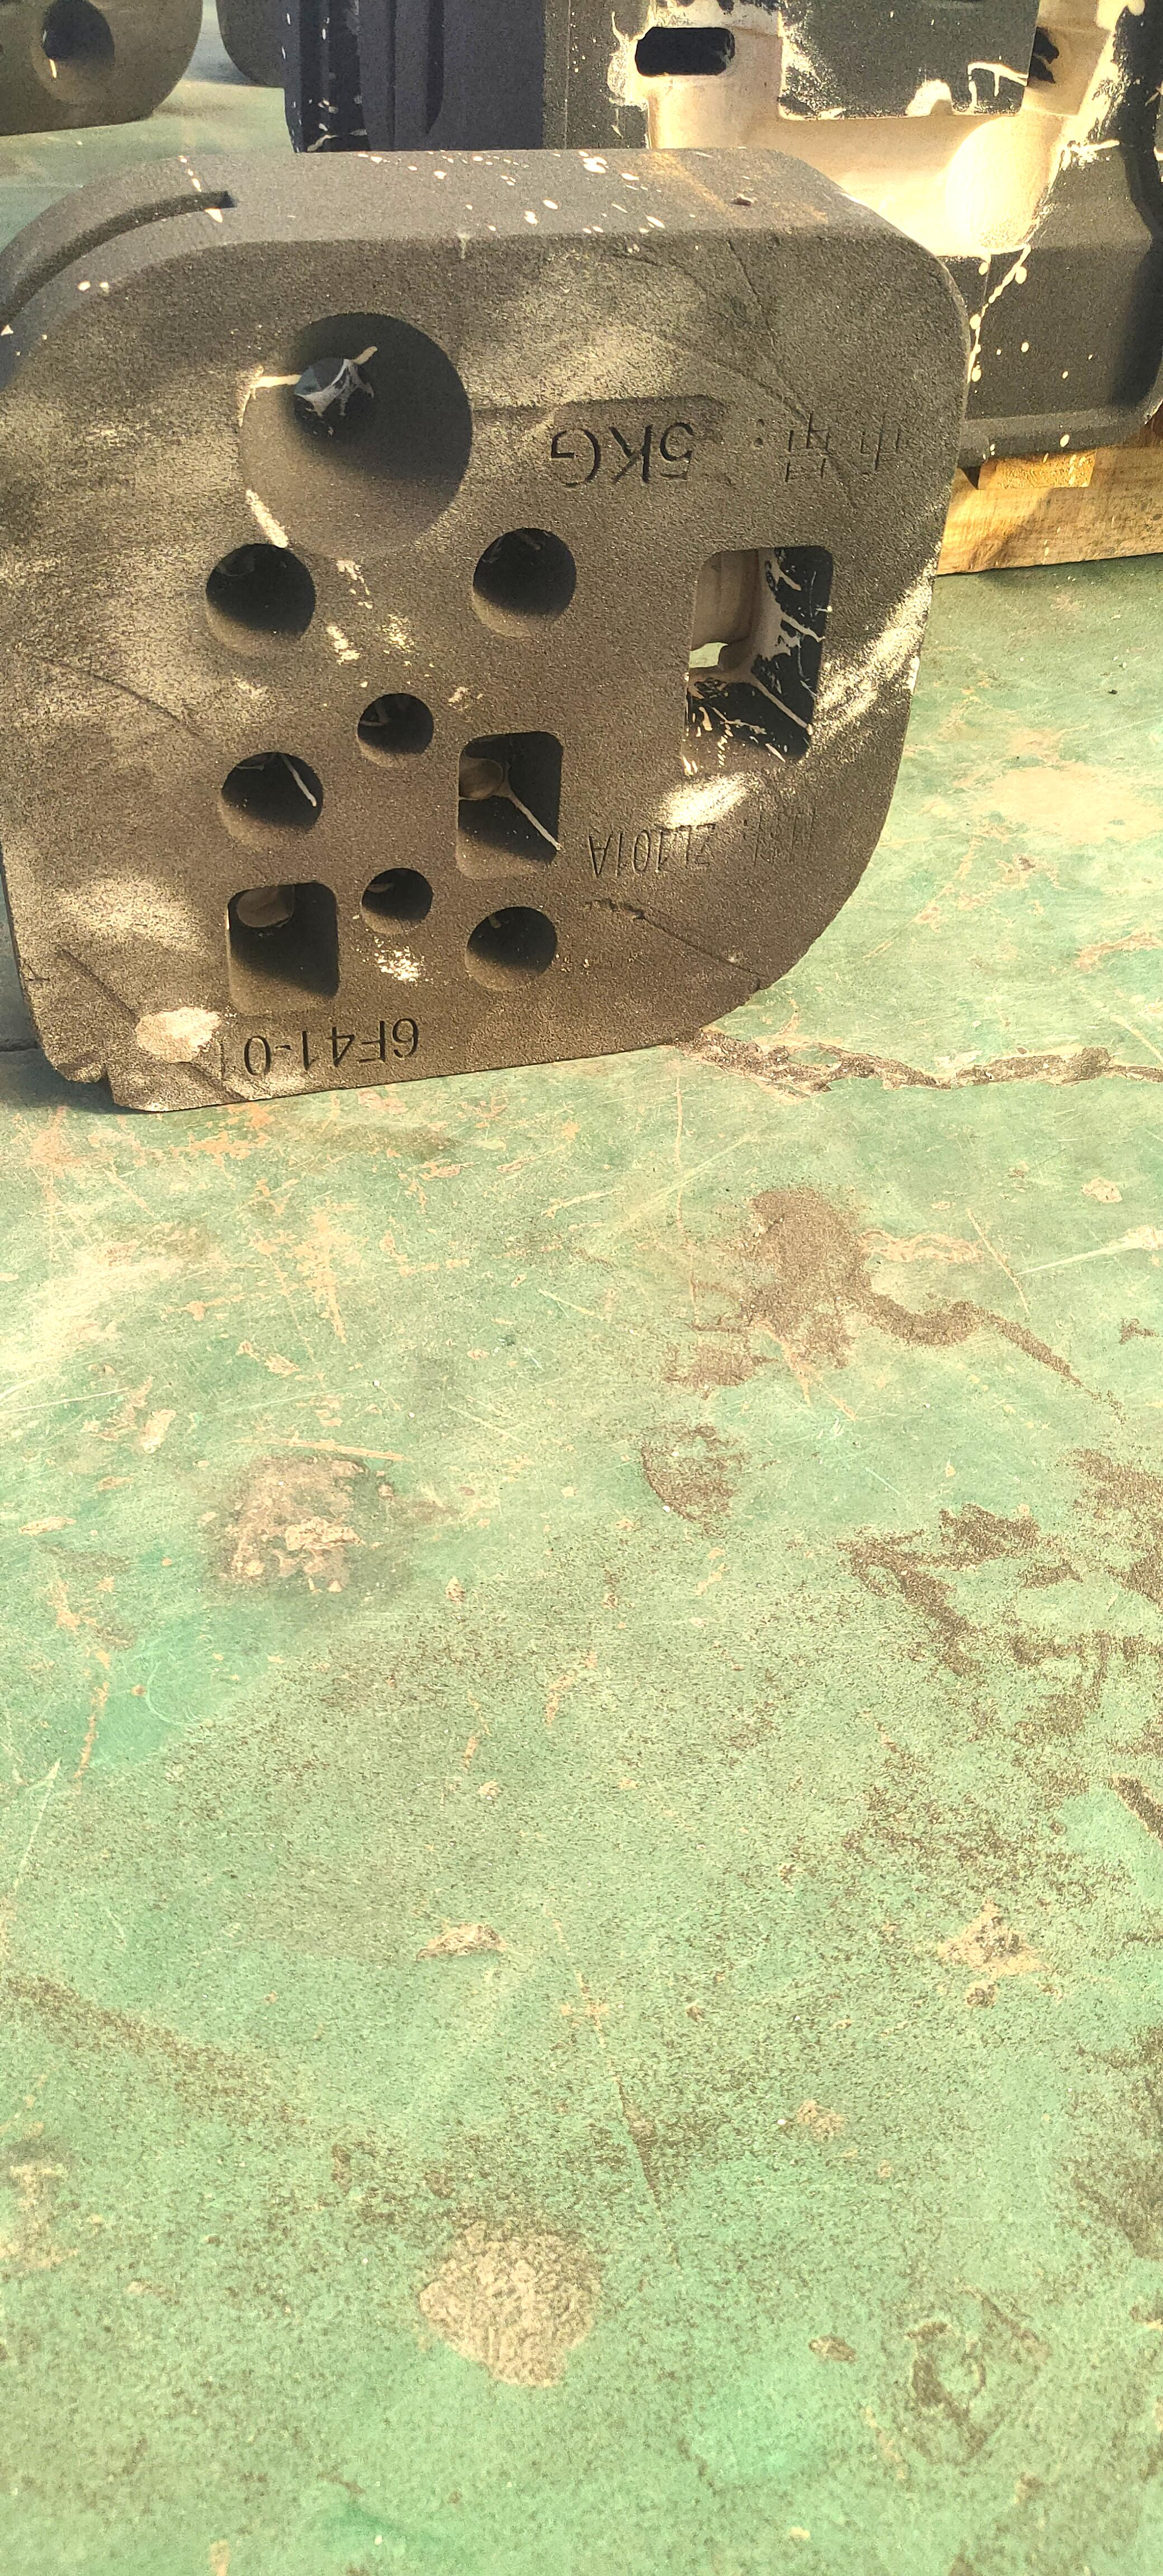pouring hole: (238, 314, 473, 559)
